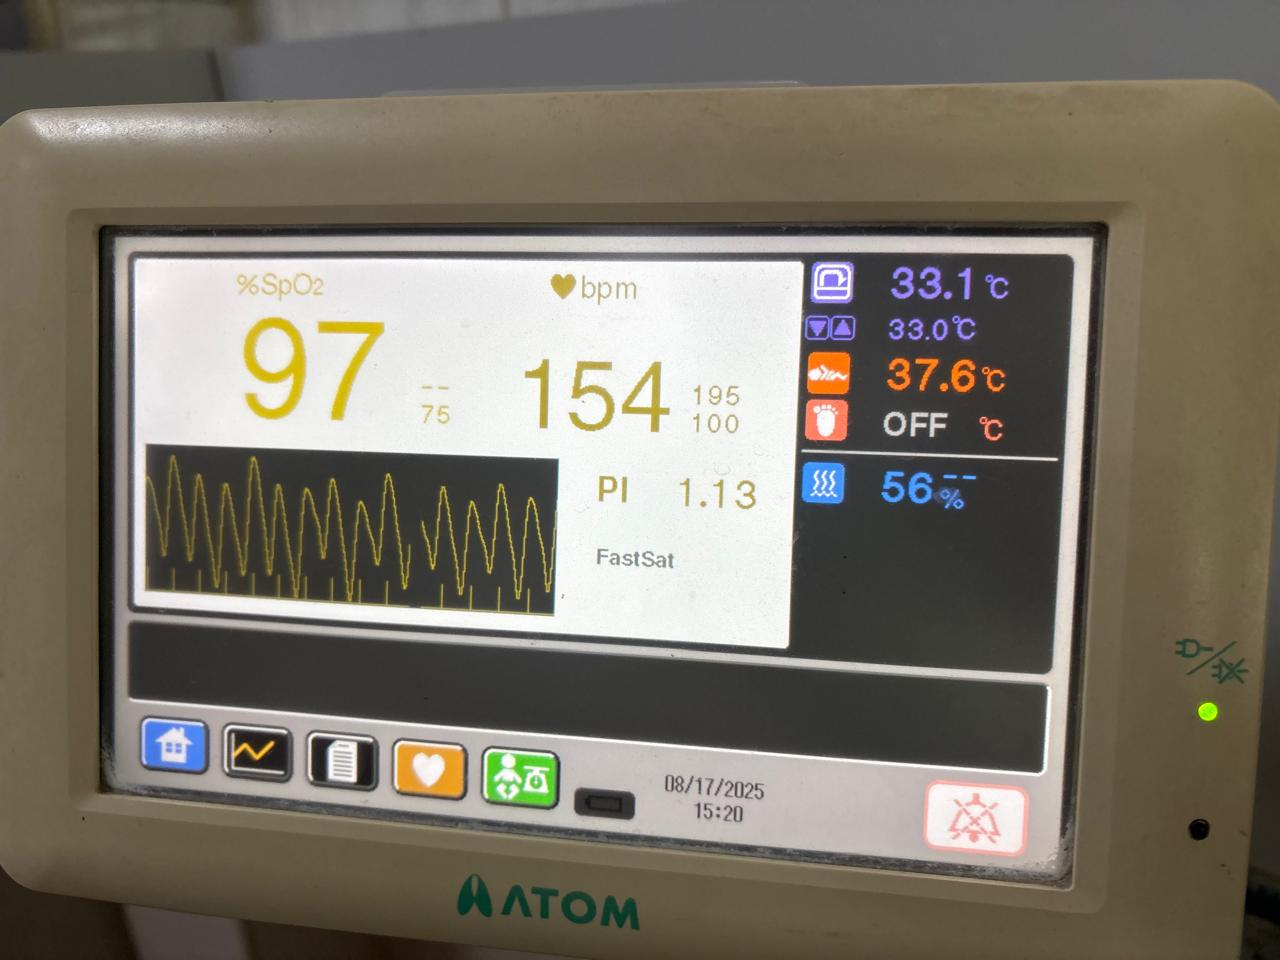heart_rate_value: (512, 344, 680, 447)
humidity_value: (869, 457, 938, 515)
skin_temp_value: (874, 345, 982, 399)
spo2_value: (230, 306, 394, 433)
